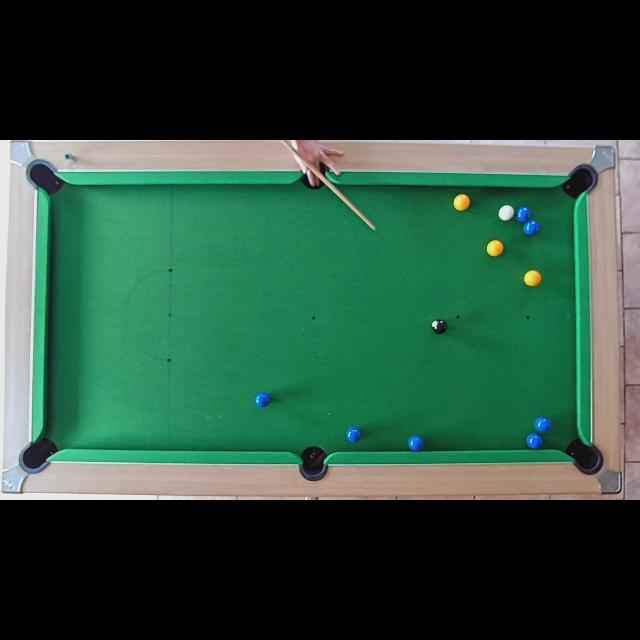Ball: (454, 193, 471, 210), (524, 270, 542, 286), (486, 240, 504, 256), (526, 432, 542, 450), (498, 205, 514, 221), (254, 392, 270, 408), (535, 418, 551, 434), (515, 206, 531, 222), (524, 221, 540, 237), (432, 320, 448, 334), (346, 427, 360, 443), (408, 437, 424, 451)
